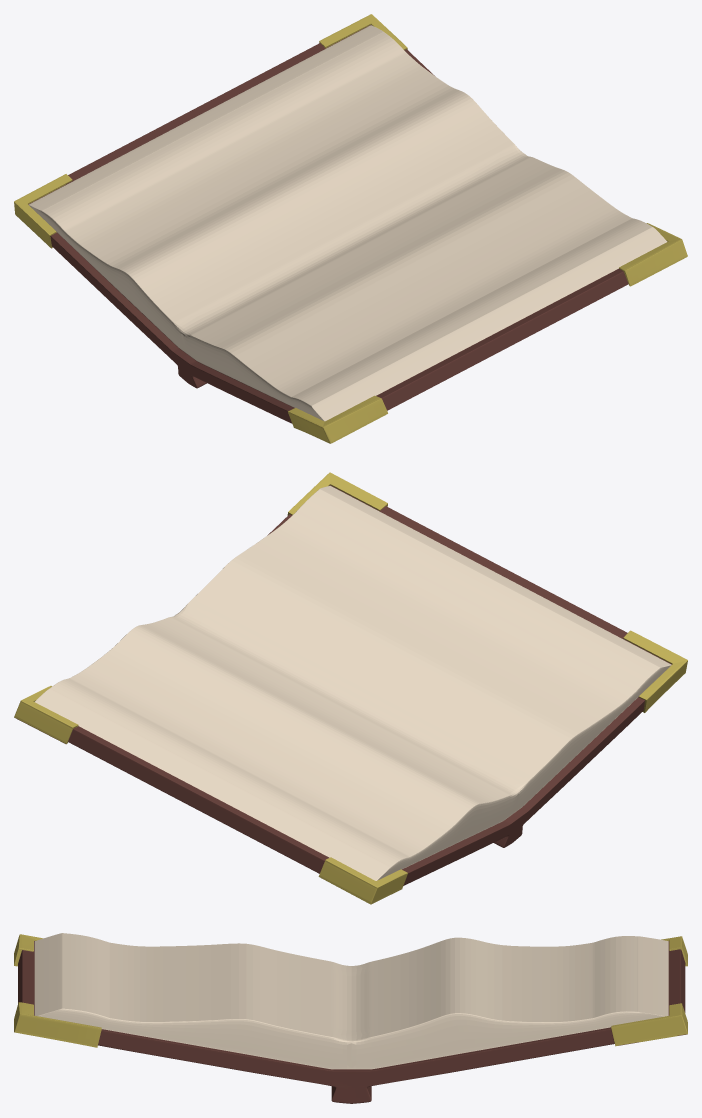
The model's file is boek.fbx.
3 views of the same model, one above another, from view 1: azimuth 30°, elevation 25°; view 2: azimuth 150°, elevation 25°; view 3: azimuth 270°, elevation 25° (orthographic). The views are drawn at different scales.
Parts seen in each view (by area): view 1: Cube; view 2: Cube; view 3: Cube.
Part boxes in pixels (box(x1,y1,x2,y2)): Cube: box(14, 14, 687, 443); Cube: box(14, 472, 687, 904); Cube: box(14, 933, 687, 1103).
Bounding box in the file's own units: 640 × 285 × 929.
